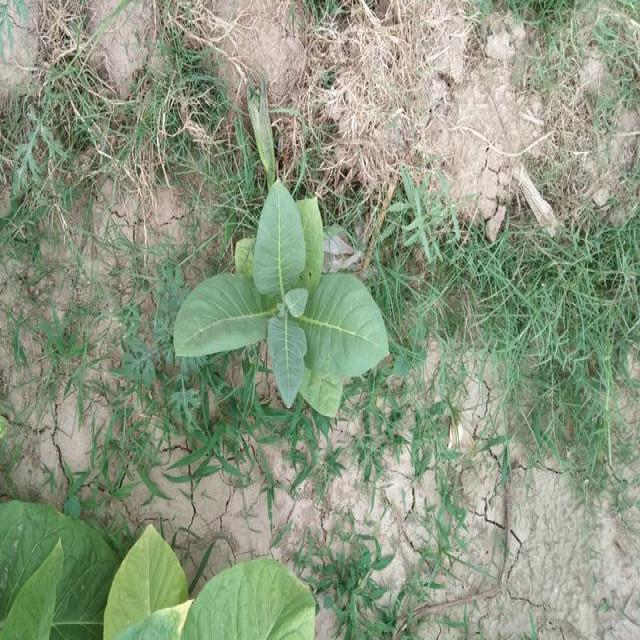crop: (172, 178, 392, 424)
